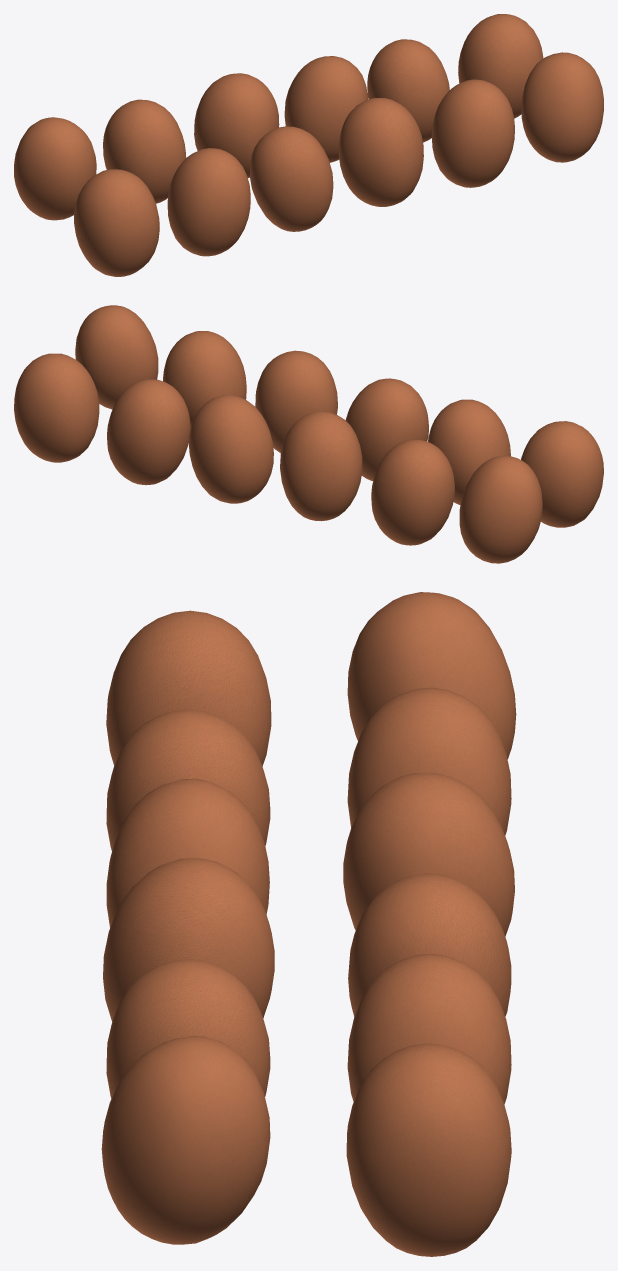
The model's file is 12 eggs-only.glb.
3 views of the same model, one above another, from view 1: azimuth 30°, elevation 25°; view 2: azimuth 150°, elevation 25°; view 3: azimuth 270°, elevation 25° (orthographic). The views are drawn at different scales.
Visible parts, largest first — view 1: eggs_Cube.011; view 2: eggs_Cube.011; view 3: eggs_Cube.011.
Boxes of the visible parts, x1,y1,x2,y2 form: eggs_Cube.011: (14,14,603,276); eggs_Cube.011: (14,305,603,563); eggs_Cube.011: (101,592,516,1256).
Size of the model in its own units: 3.7 by 0.7592 by 1.28.
1 material, 1 textured.
